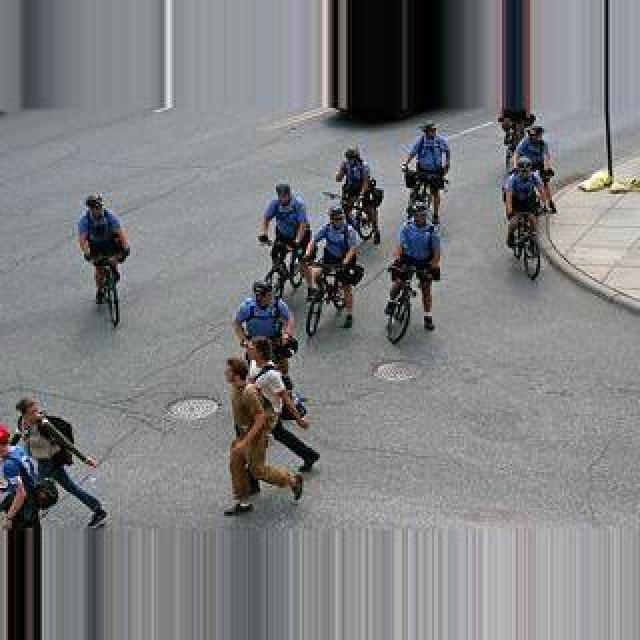MC-Bike: (4, 398, 108, 530), (224, 352, 308, 514), (234, 282, 298, 396), (302, 206, 364, 316), (390, 204, 442, 328), (256, 180, 310, 294), (78, 192, 130, 304), (408, 118, 456, 208)
Person: (304, 256, 354, 338), (384, 258, 428, 344)
